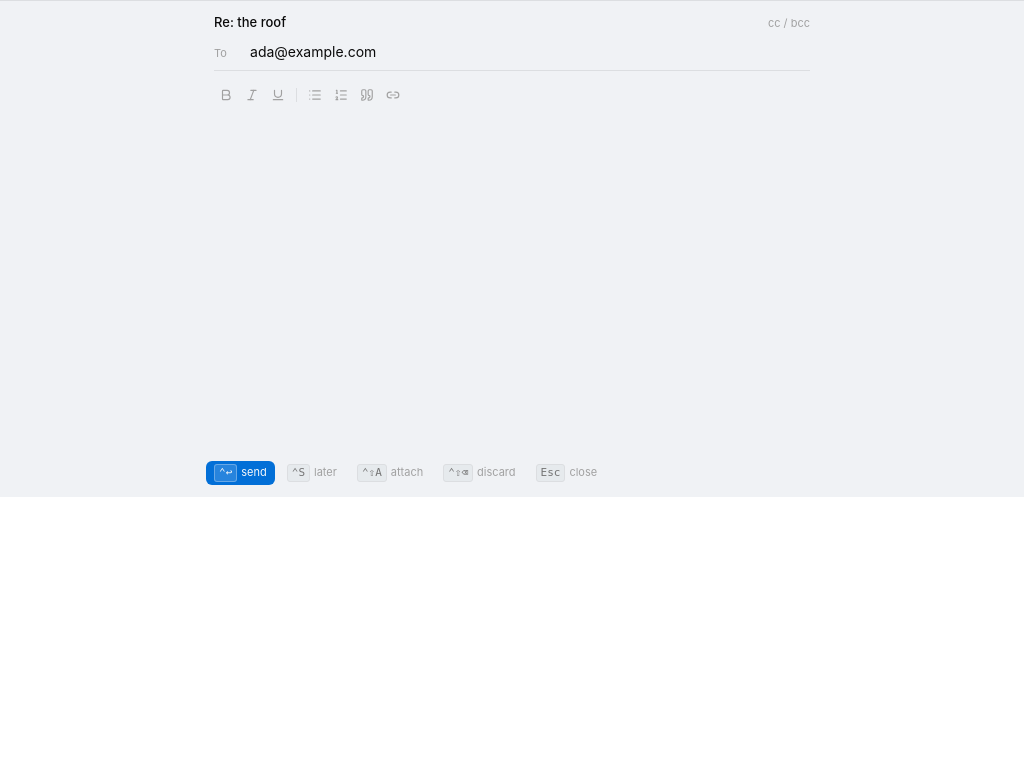
Test: every act in the row › says which one is open, for anything reading the row
This screenshot has width=1024, height=768.
Click the button "⌃S later" at (312, 472), box [279, 460, 345, 484]
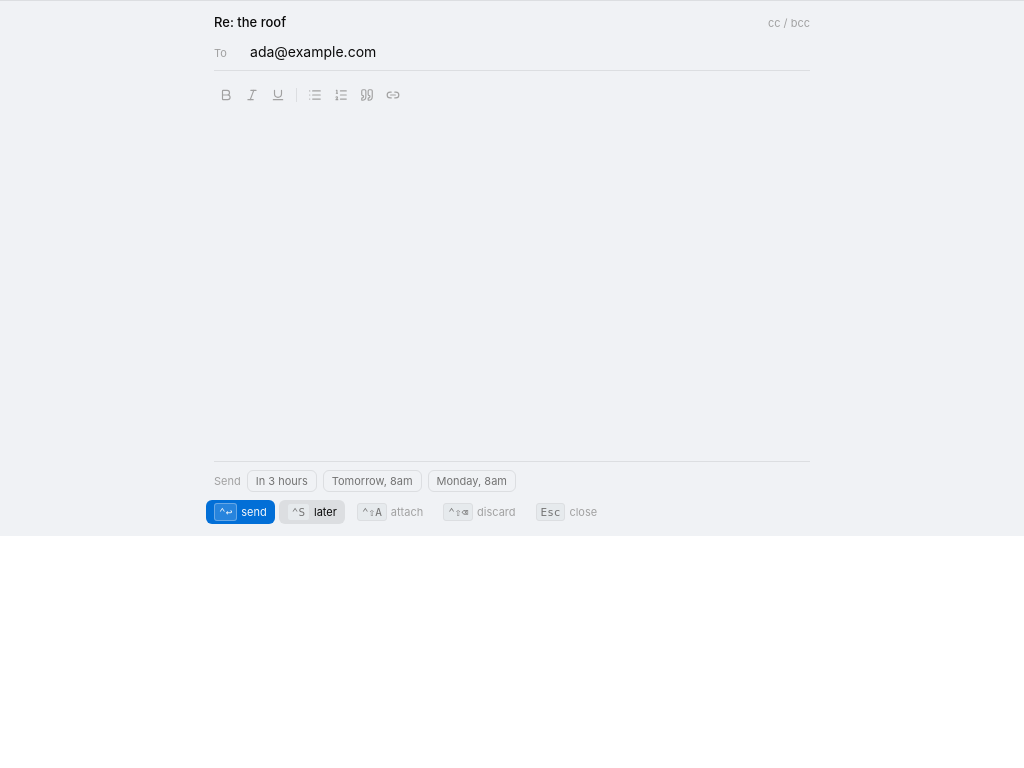
expect the button "⌃S later" is expanded: met, box [279, 500, 345, 524]
